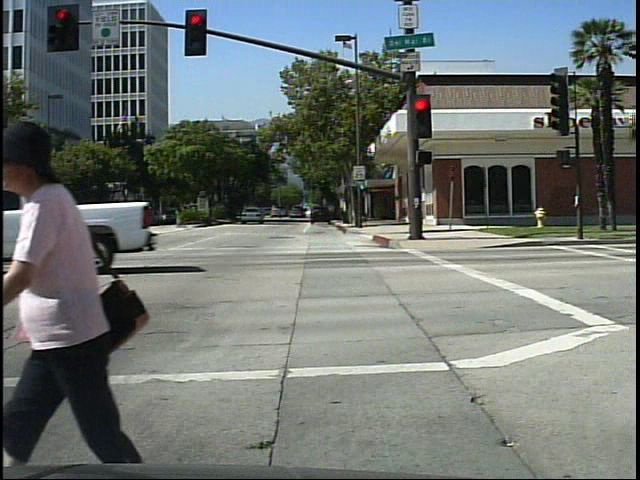person: (0, 106, 152, 468)
